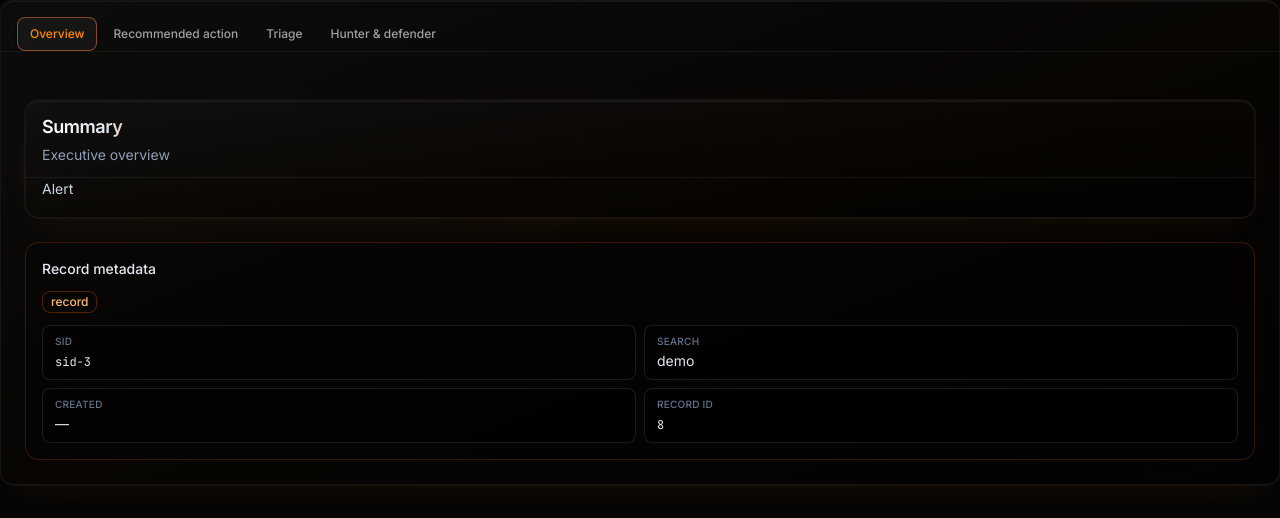
Test: InvestigationTabbedLayout › shows full triage report on Triage tab when triage is embedded in analysis
Click the tab "Triage" at (284, 34), box left=254, top=18, right=314, bottom=50
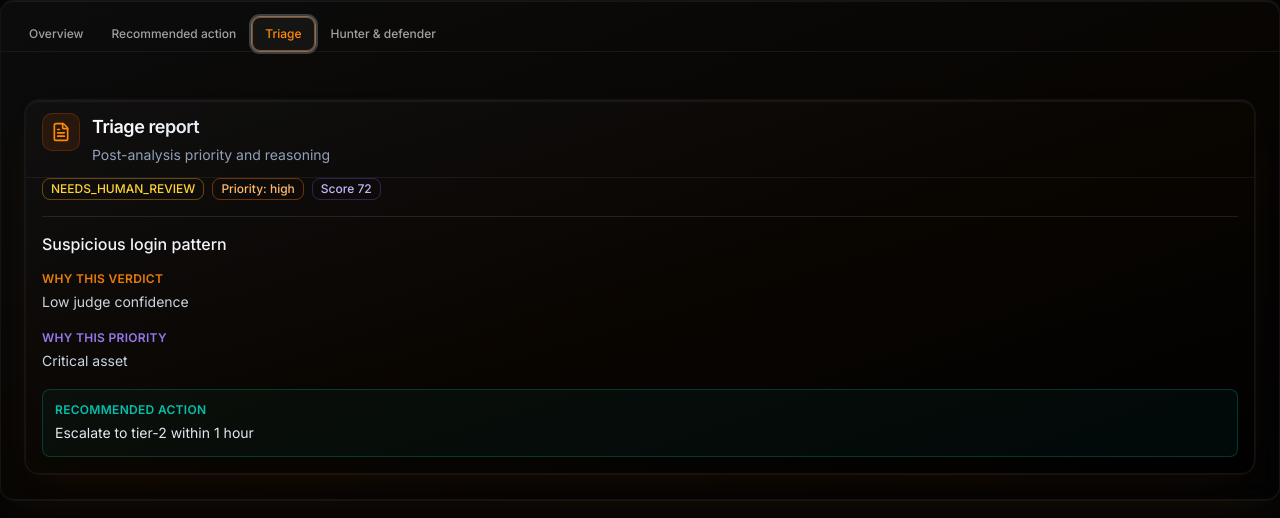
Result: the element with test id "security-triage-panel" is shown
Result: the text "Suspicious login pattern" is shown at left=42, top=234, right=227, bottom=254
Result: the text "Low judge confidence" is shown at left=42, top=293, right=189, bottom=310
